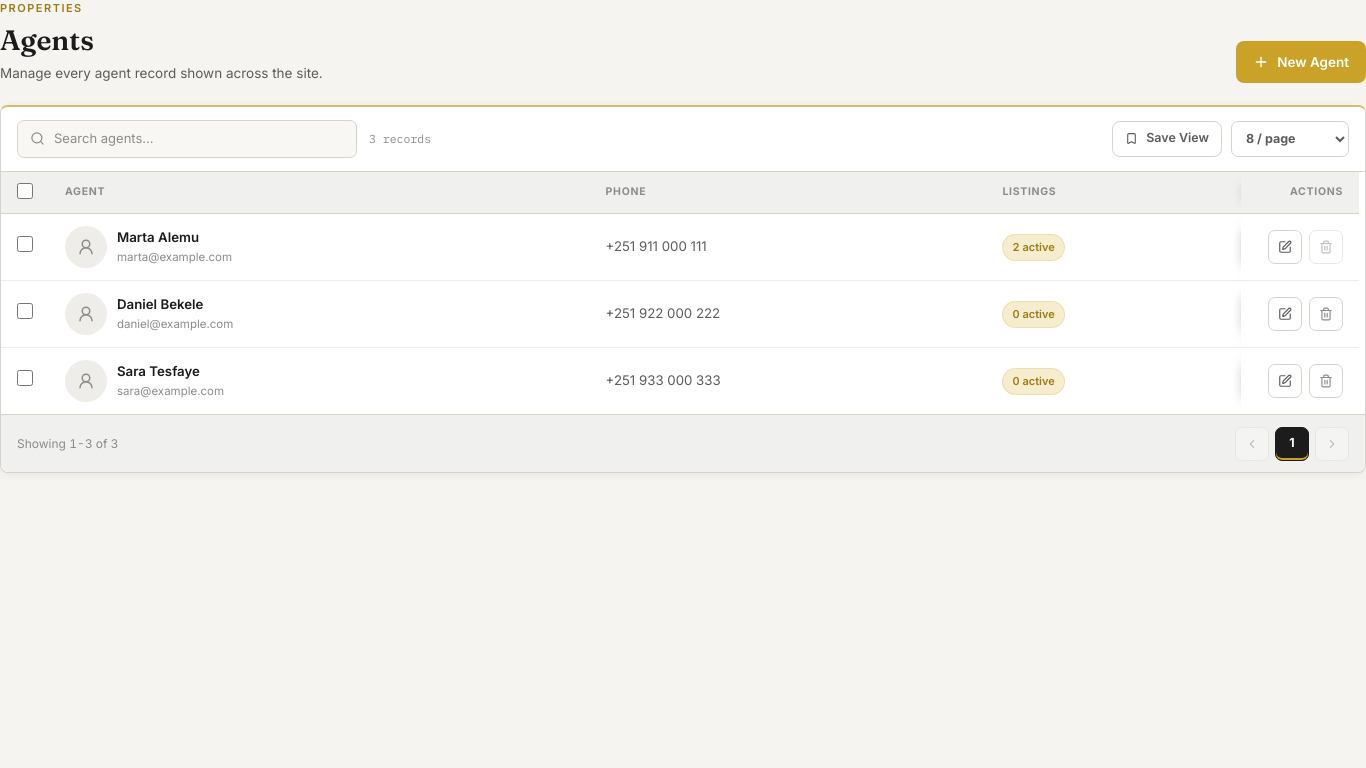
Scenario: AgentsPage › invalidates agent-dependent caches after deleting one agent
Step 1. Click the button named "Delete Daniel Bekele" → (1326,314), box [1309, 297, 1343, 331]
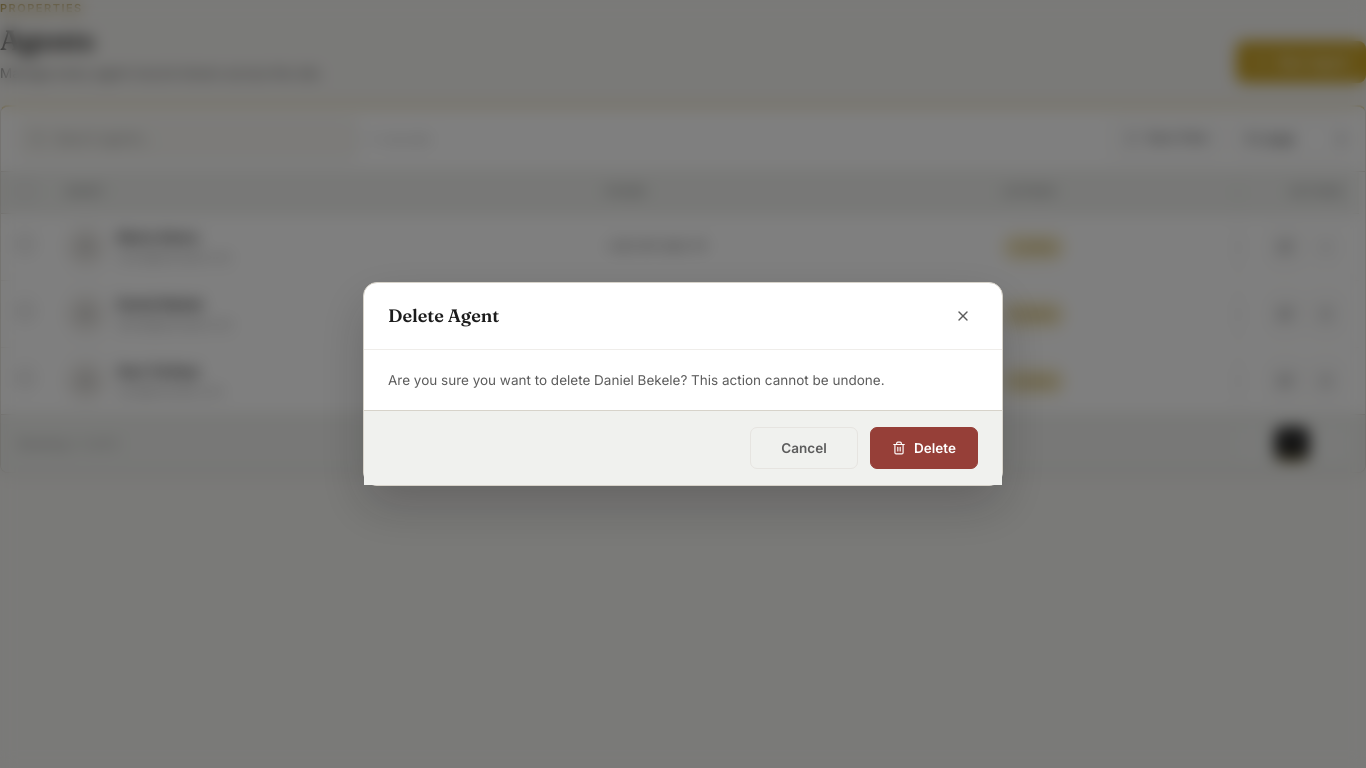
Step 2. Click the button "Delete" → (924,448), box [870, 427, 978, 469]
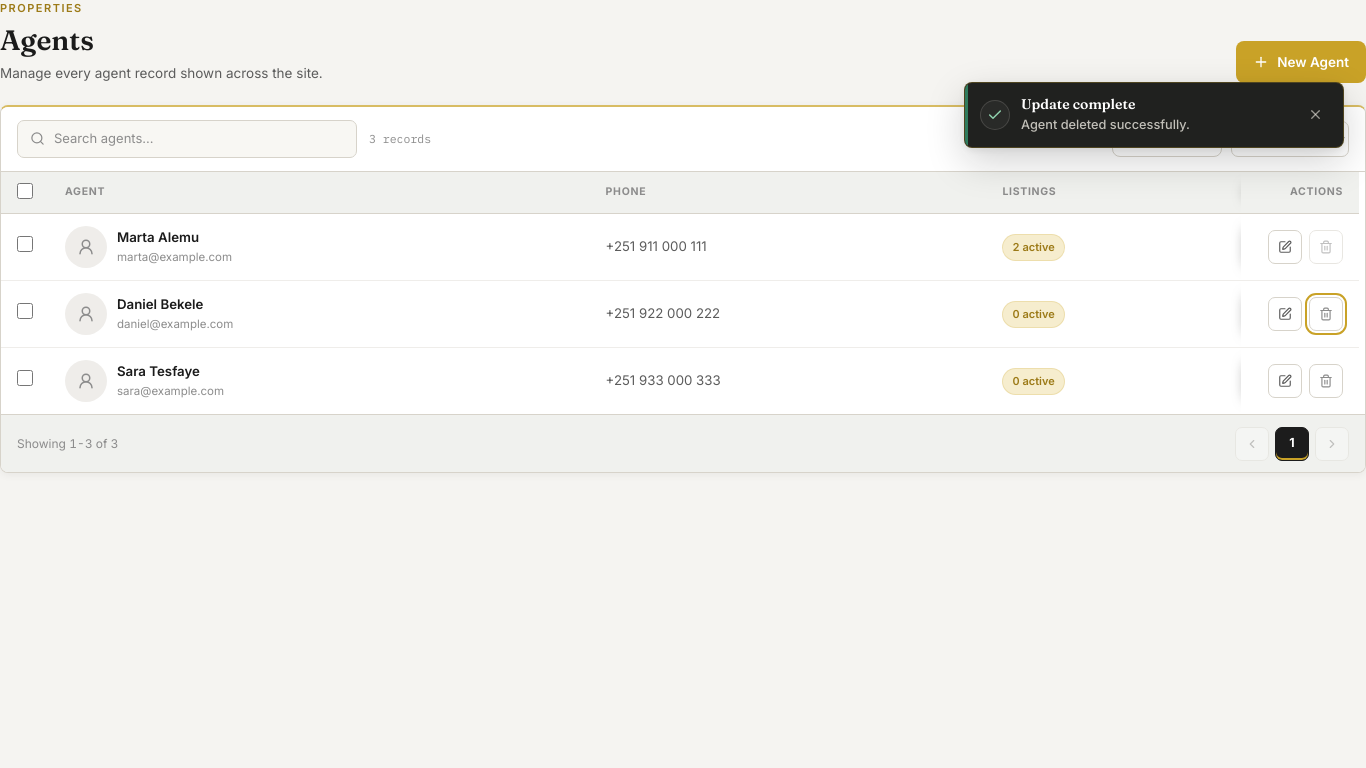
Expected: the message shows "Agent deleted successfully.", [1021, 116, 1190, 132]
